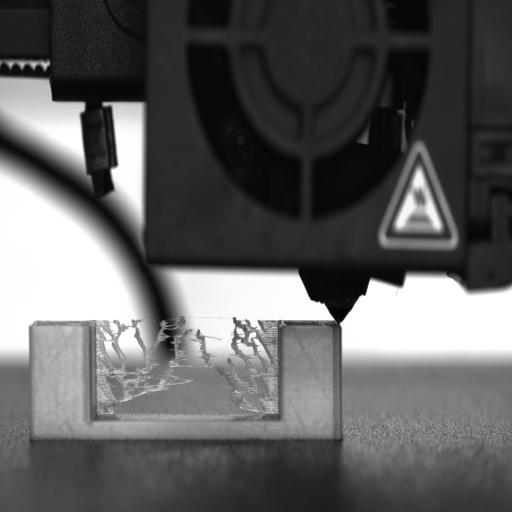spaghetti_and_stringing: (96, 317, 278, 414)
